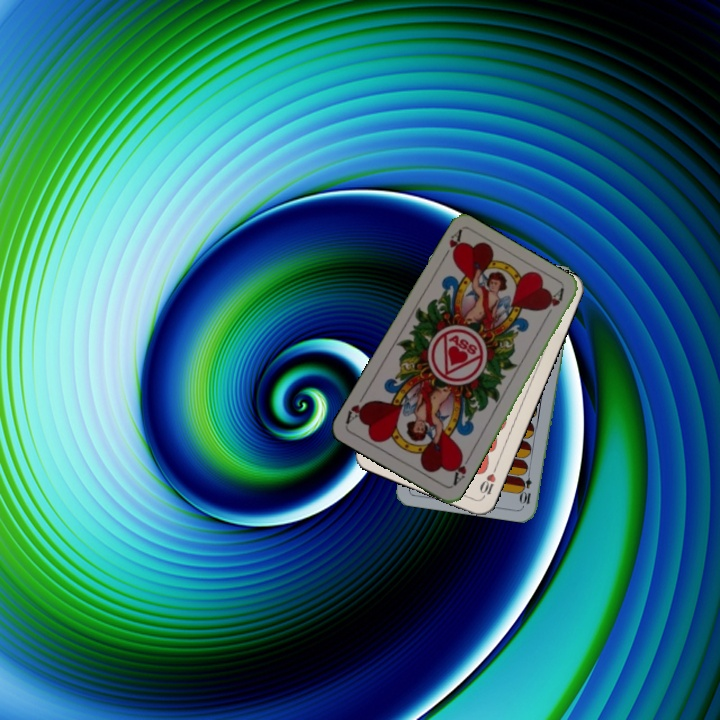E10: (518, 466, 534, 506)
H10: (475, 462, 500, 501)
HA: (438, 227, 465, 264), (448, 450, 473, 488)
